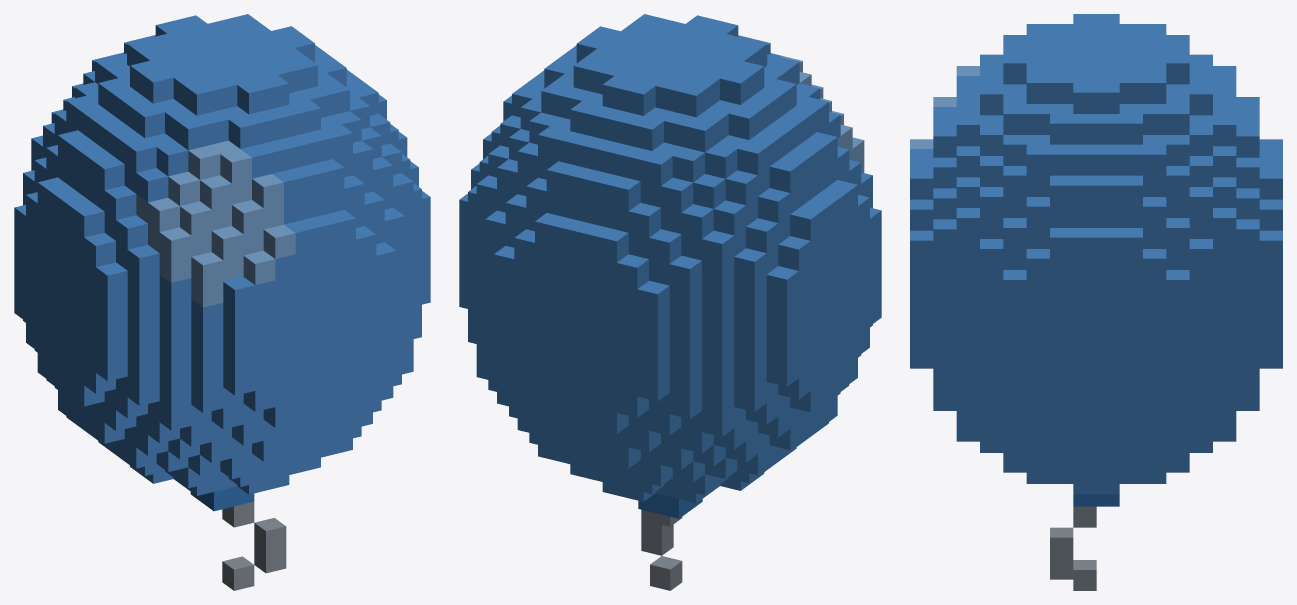
File: balloon-blue.glb
3 renders of one model, left to right at view 1: azimuth 30°, elevation 25°; view 2: azimuth 150°, elevation 25°; view 3: azimuth 270°, elevation 25°, orthographic.
Parts seen in each view (by area): view 1: prop; view 2: prop; view 3: prop.
Part boxes in pixels (x1=…): prop: x1=14, y1=14, x2=430, y2=590; prop: x1=459, y1=14, x2=881, y2=590; prop: x1=910, y1=14, x2=1282, y2=590.
Bounding box in the file's own units: 10.24 × 16 × 10.24.
